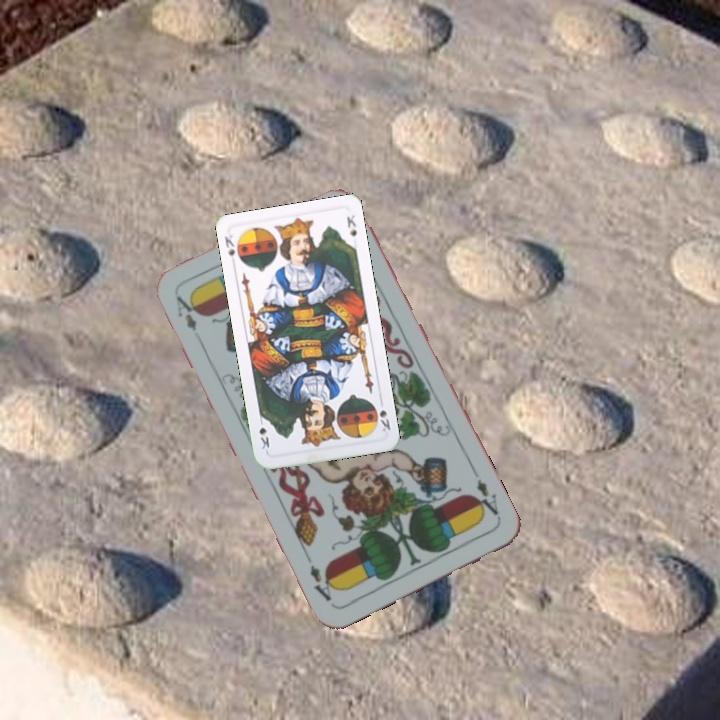EA: (469, 475, 503, 522), (171, 291, 203, 334)
SK: (221, 231, 244, 269), (376, 395, 393, 434)
